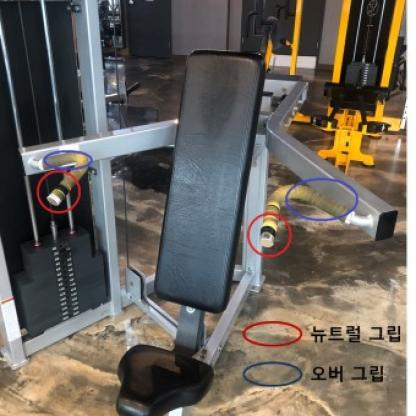shoulder press machine: (1, 2, 416, 416)
